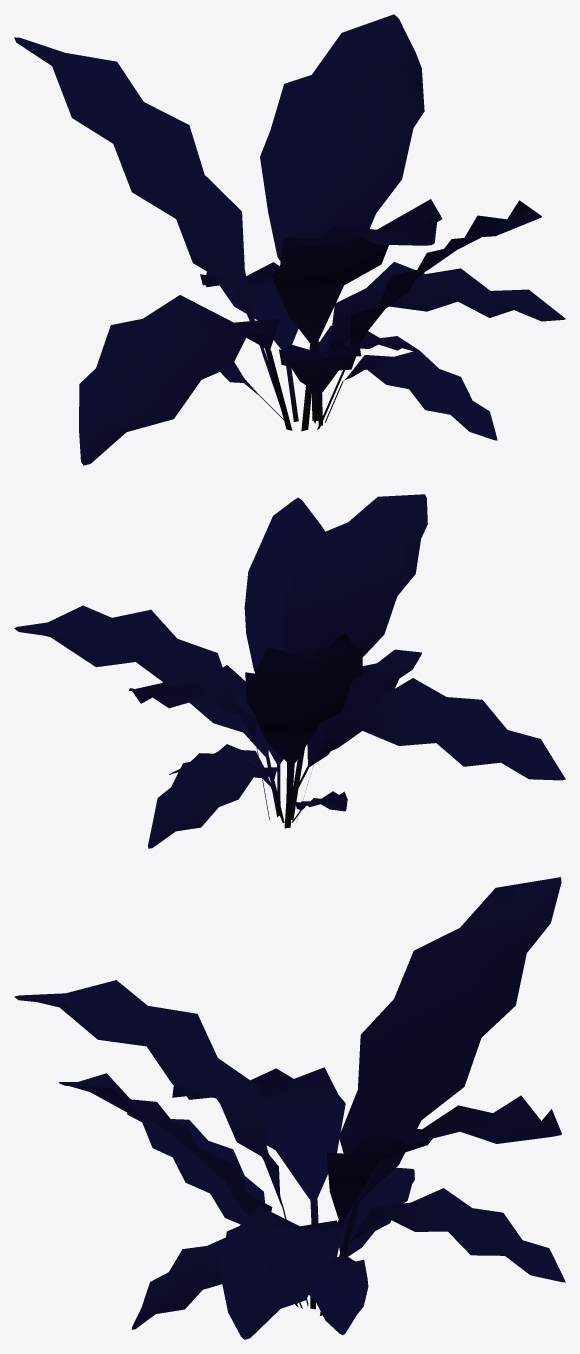
Rendered from SM_Foliage_PalmPlantB_05.fbx.
The picture shows the model from 3 angles, top to bottom: view 1: azimuth 30°, elevation 25°; view 2: azimuth 150°, elevation 25°; view 3: azimuth 270°, elevation 25°; orthographic projection. The views are drawn at different scales.
Visible parts, largest first — view 1: SM_Foliage_PalmPlantB_05; view 2: SM_Foliage_PalmPlantB_05; view 3: SM_Foliage_PalmPlantB_05.
Part boxes in pixels (x1,y1,x2,y2): SM_Foliage_PalmPlantB_05: (14,14,565,465); SM_Foliage_PalmPlantB_05: (14,494,565,848); SM_Foliage_PalmPlantB_05: (14,877,565,1339).
Size of the model in its own units: 176 by 164 by 114.
